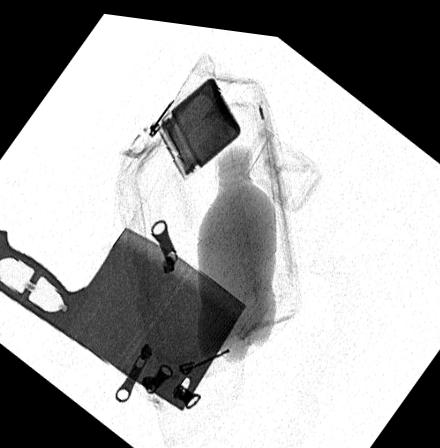Knife: (0, 220, 248, 407)
